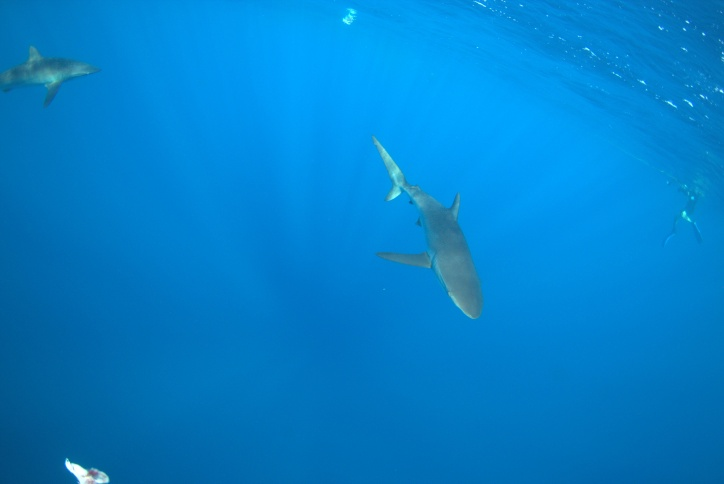Sedoso: (332, 111, 496, 324)
